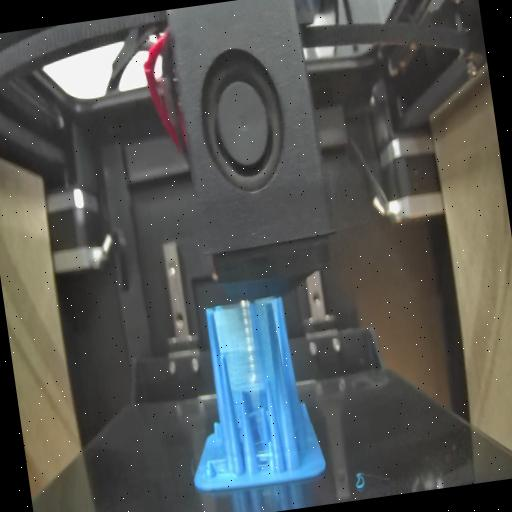stringing: (212, 296, 287, 392), (246, 400, 278, 476)
